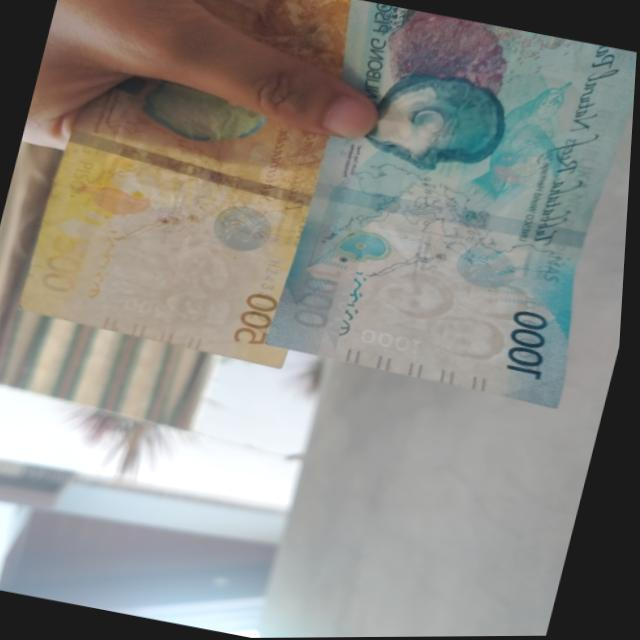security_thread: (312, 178, 591, 251), (71, 128, 315, 206)
see_through_mark: (70, 217, 132, 308), (334, 262, 382, 344)
value_watermark: (359, 325, 437, 360), (119, 293, 181, 322)
watermark: (362, 251, 544, 370), (121, 225, 272, 334)
